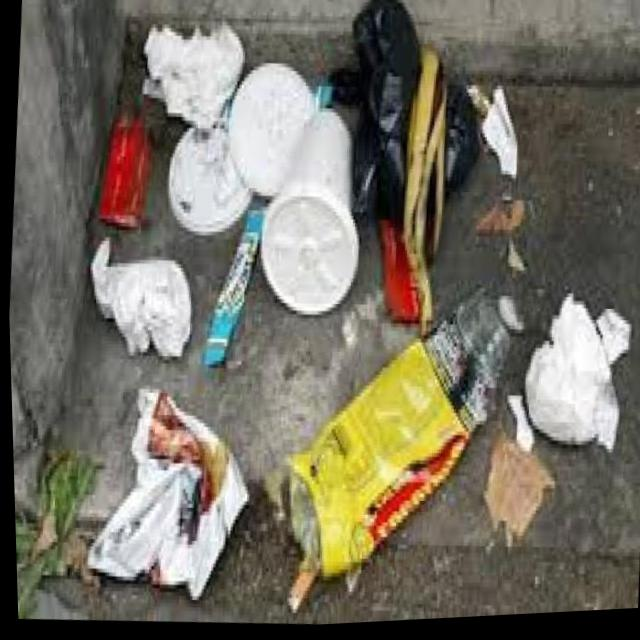fabric: (379, 32, 467, 348)
food: (502, 286, 635, 472), (65, 239, 206, 368), (126, 0, 254, 127), (201, 189, 273, 379)
leaf: (255, 250, 527, 618), (259, 104, 380, 336), (221, 52, 320, 223), (155, 112, 259, 244)
metal: (337, 3, 487, 210)
plastic bag: (10, 440, 111, 624)
trash: (67, 389, 256, 610), (71, 578, 97, 603)
